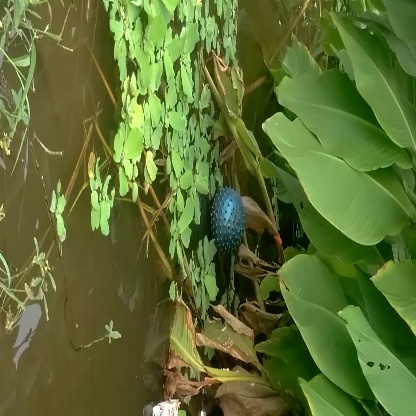ball: (204, 180, 248, 250)
